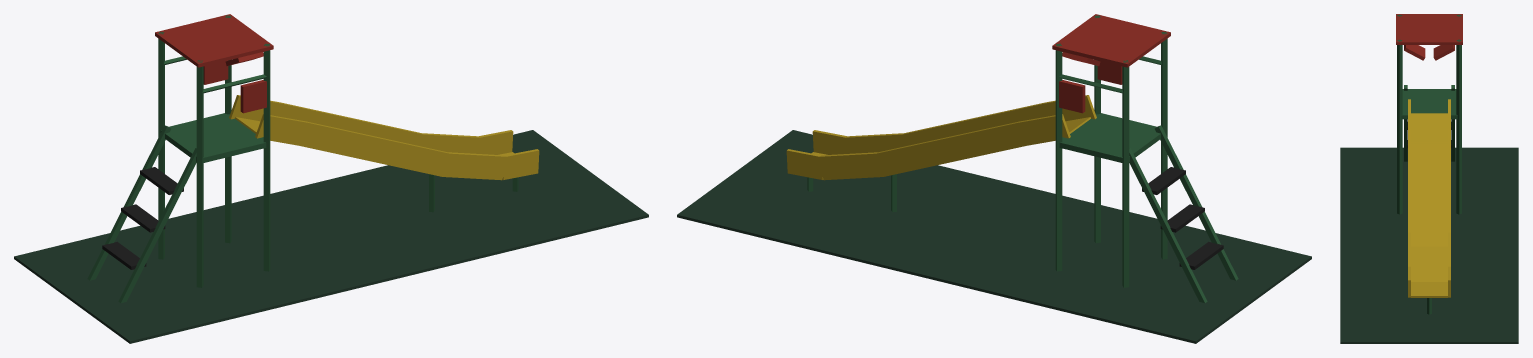
File: SM_Prop_play_slide_1_LOD1.glb
The picture shows the model from 3 angles, left to right: view 1: azimuth 30°, elevation 25°; view 2: azimuth 150°, elevation 25°; view 3: azimuth 270°, elevation 25°; orthographic projection. The views are drawn at different scales.
Parts seen in each view (by area): view 1: SM_Prop_play_slide_1_LOD1; view 2: SM_Prop_play_slide_1_LOD1; view 3: SM_Prop_play_slide_1_LOD1.
Boxes of the visible parts, x1,y1,x2,y2 form: SM_Prop_play_slide_1_LOD1: (14,14,648,343); SM_Prop_play_slide_1_LOD1: (677,14,1311,343); SM_Prop_play_slide_1_LOD1: (1340,14,1518,343).
Size of the model in its own units: 6.2 by 2.67 by 2.4.
